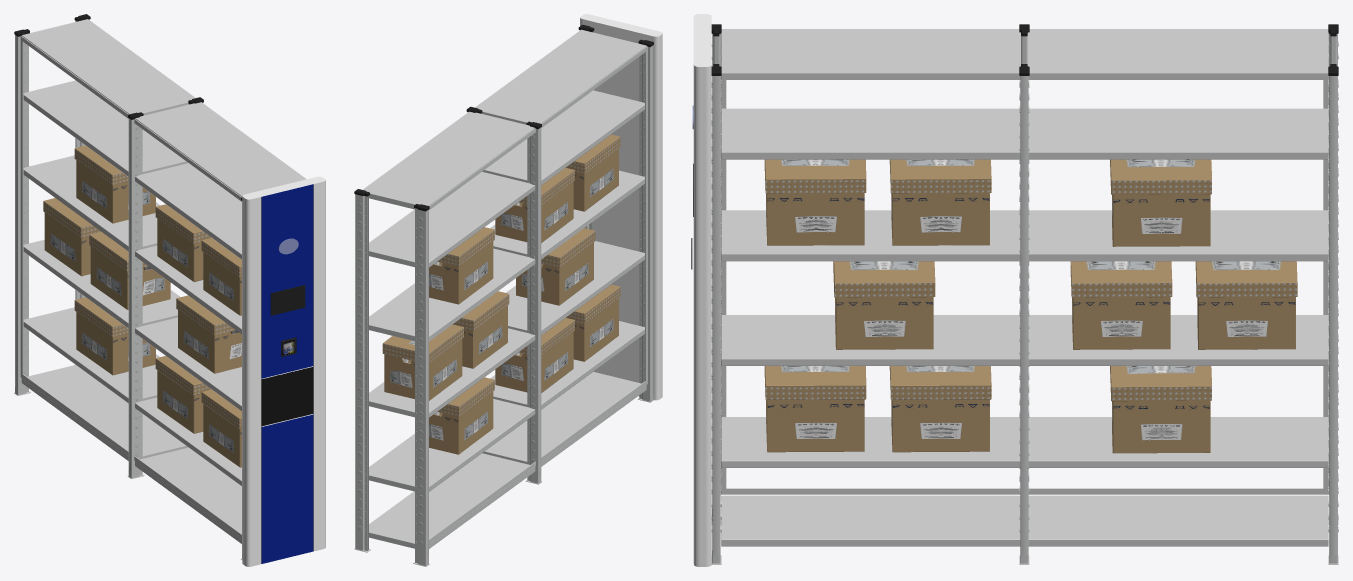
File: cabinet.gltf
The picture shows the model from 3 angles, left to right: view 1: azimuth 30°, elevation 25°; view 2: azimuth 150°, elevation 25°; view 3: azimuth 270°, elevation 25°; orthographic projection. The views are drawn at different scales.
Parts seen in each view (by area): view 1: root; view 2: root; view 3: root.
Part boxes in pixels (left/top/right/bottom): root: left=14, top=14, right=325, bottom=566; root: left=354, top=14, right=662, bottom=566; root: left=691, top=14, right=1338, bottom=566.
Bounding box in the file's own units: 0.56 × 2.46 × 2.89.
Materials: 9 (2 with a texture image).
